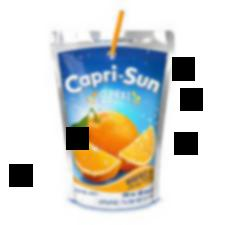cafrisun: (48, 20, 170, 213)
